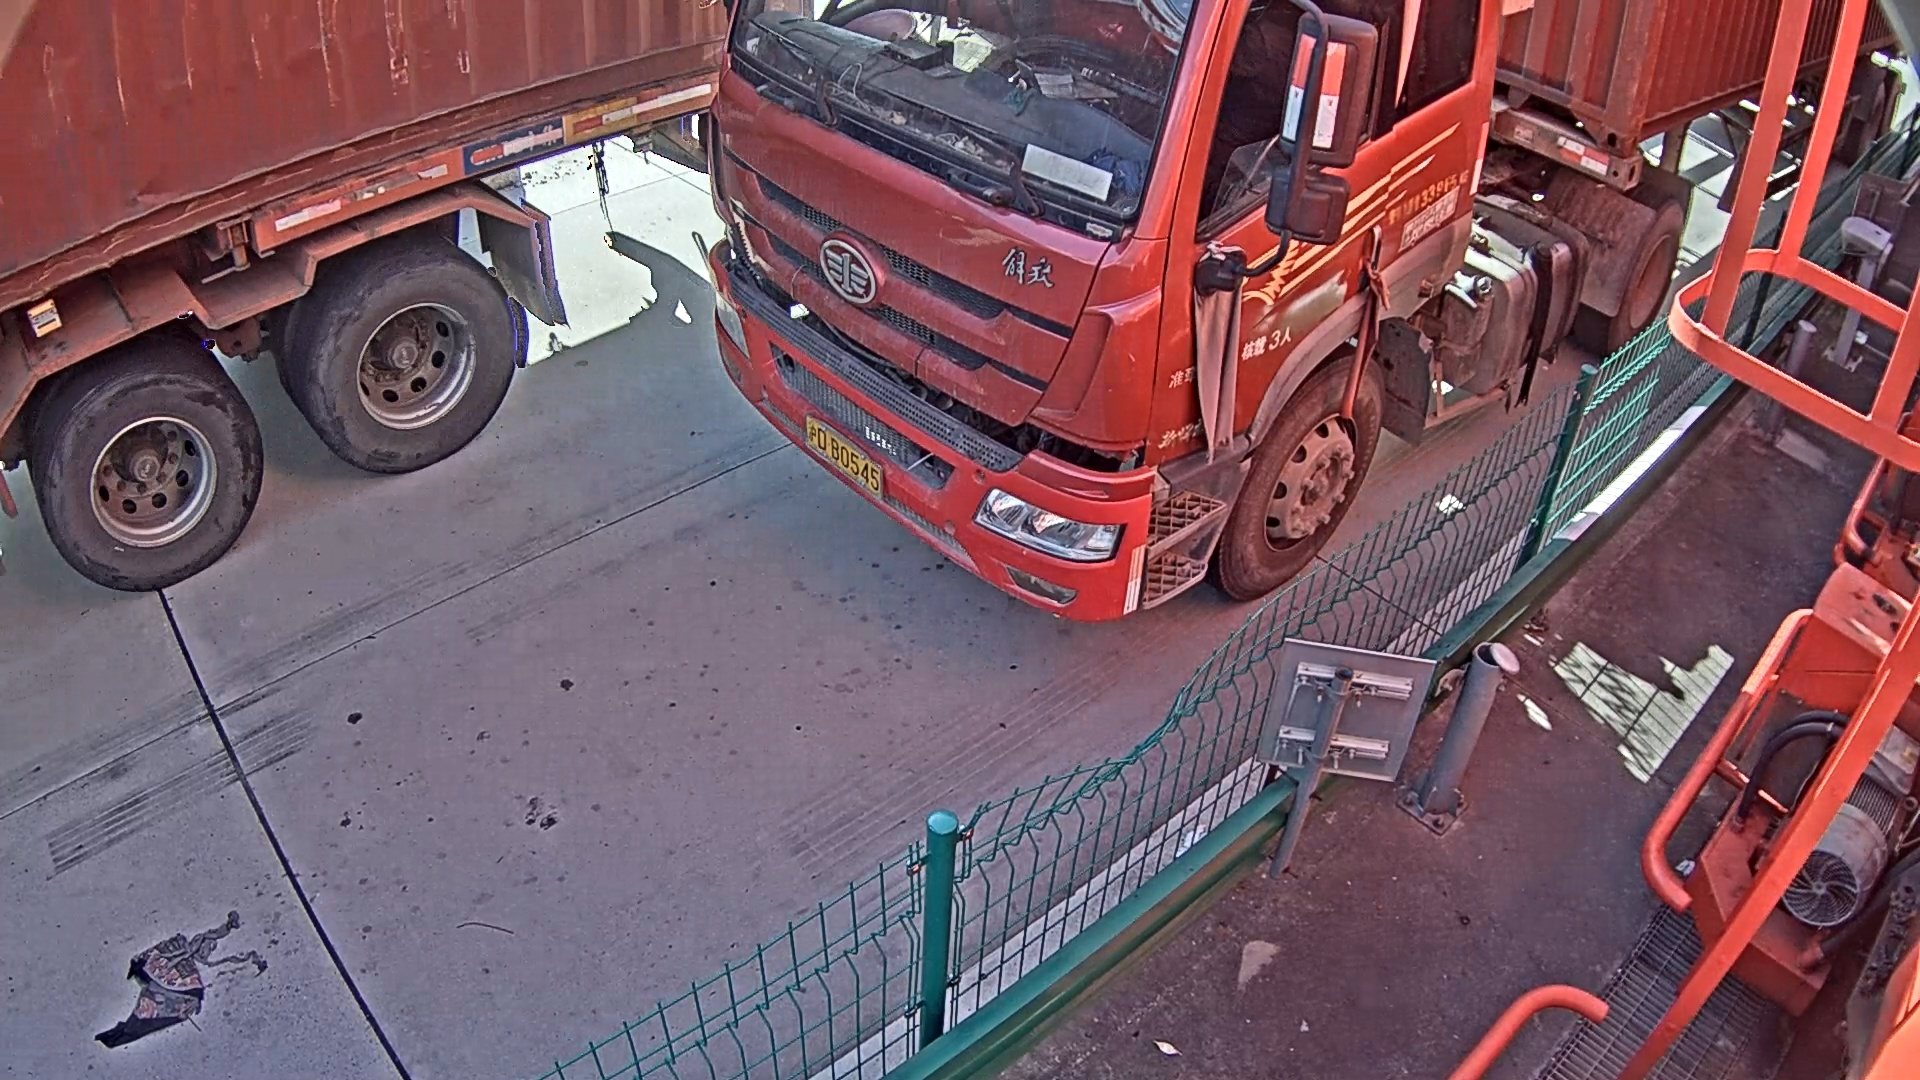head: (714, 1, 1506, 611)
plate: (804, 408, 884, 502)
